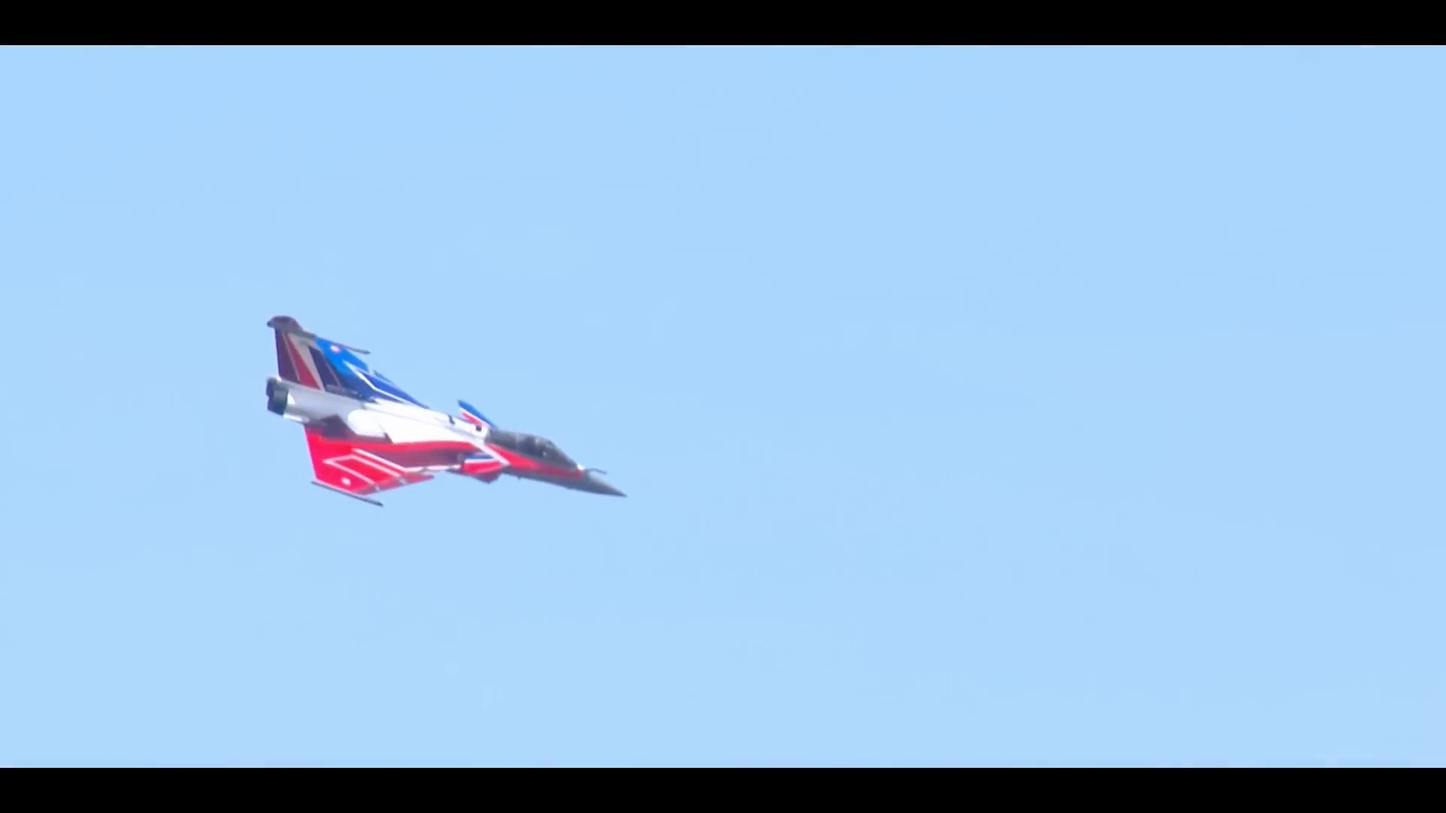Rafale: (258, 305, 632, 516)
